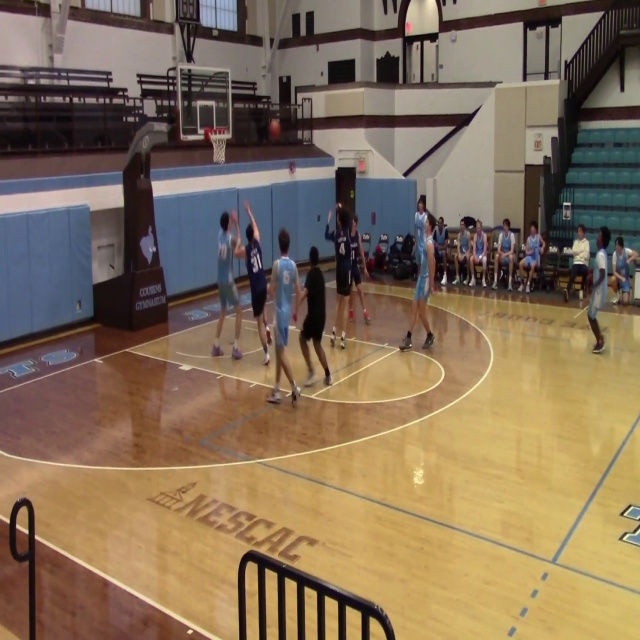Basketball: (268, 120, 280, 140), (234, 245, 246, 258)
